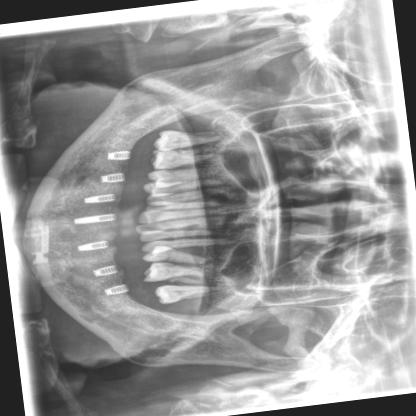Bicon: (69, 209, 118, 230), (81, 189, 117, 207), (99, 146, 134, 164), (74, 238, 110, 253), (89, 262, 120, 278), (97, 170, 128, 184), (102, 282, 132, 296)
